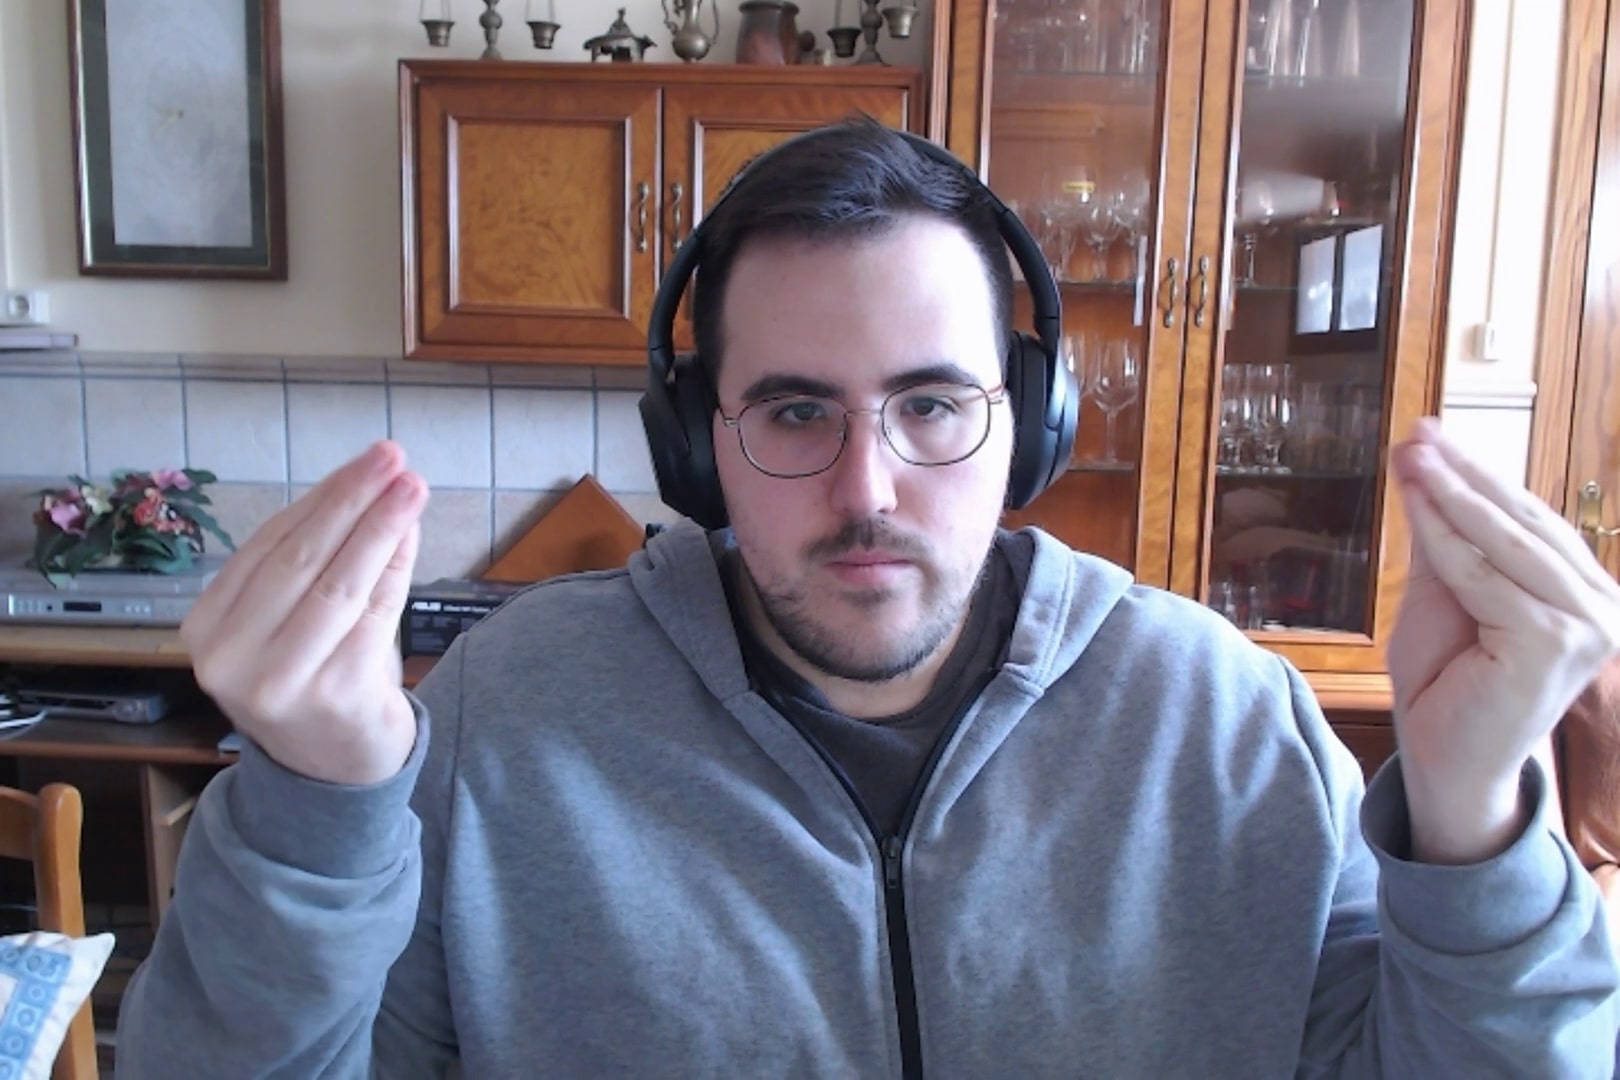hand: (166, 432, 434, 793), (1381, 413, 1620, 791)
